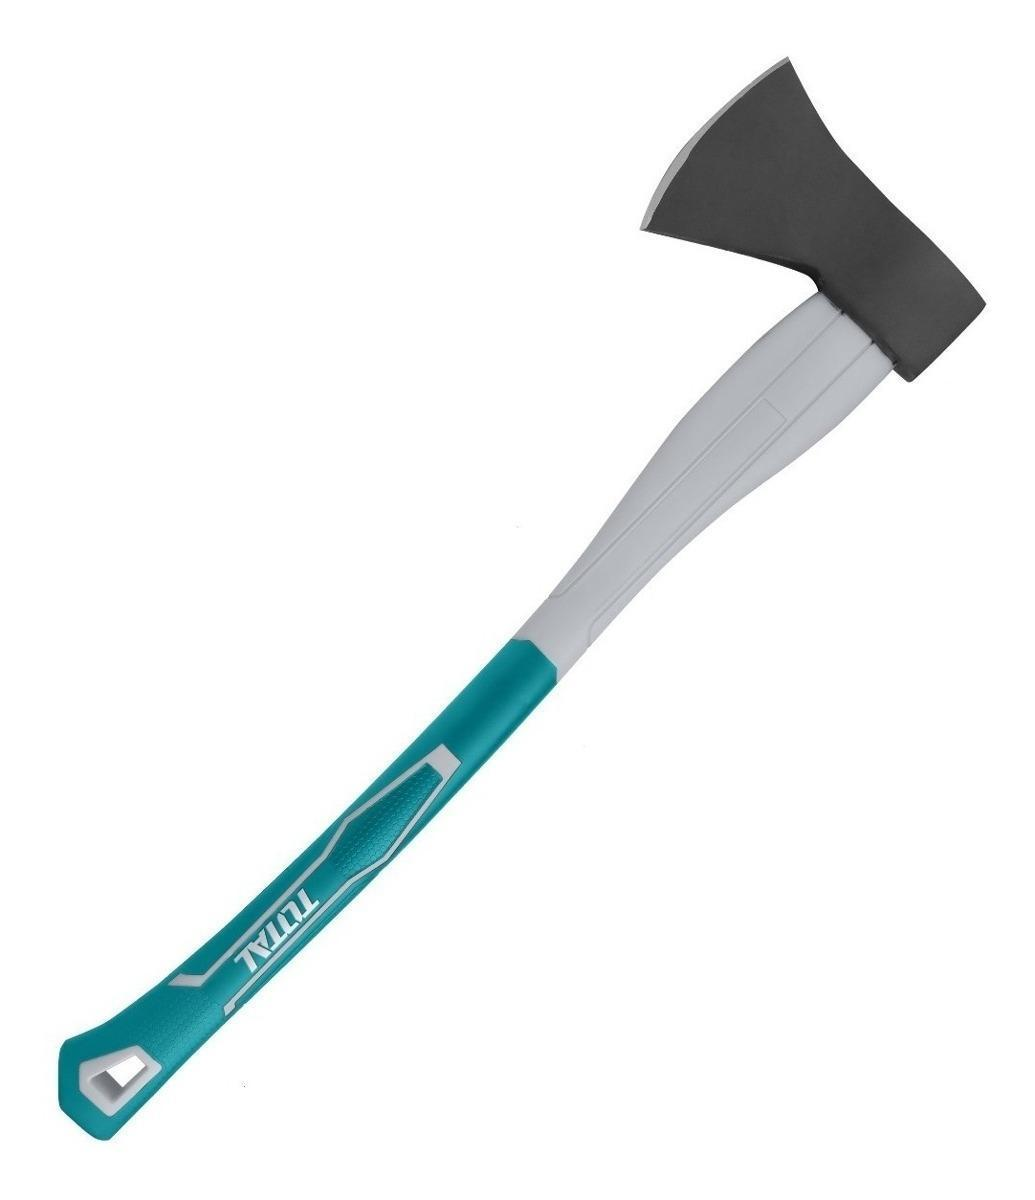machado: (58, 60, 984, 1140)
